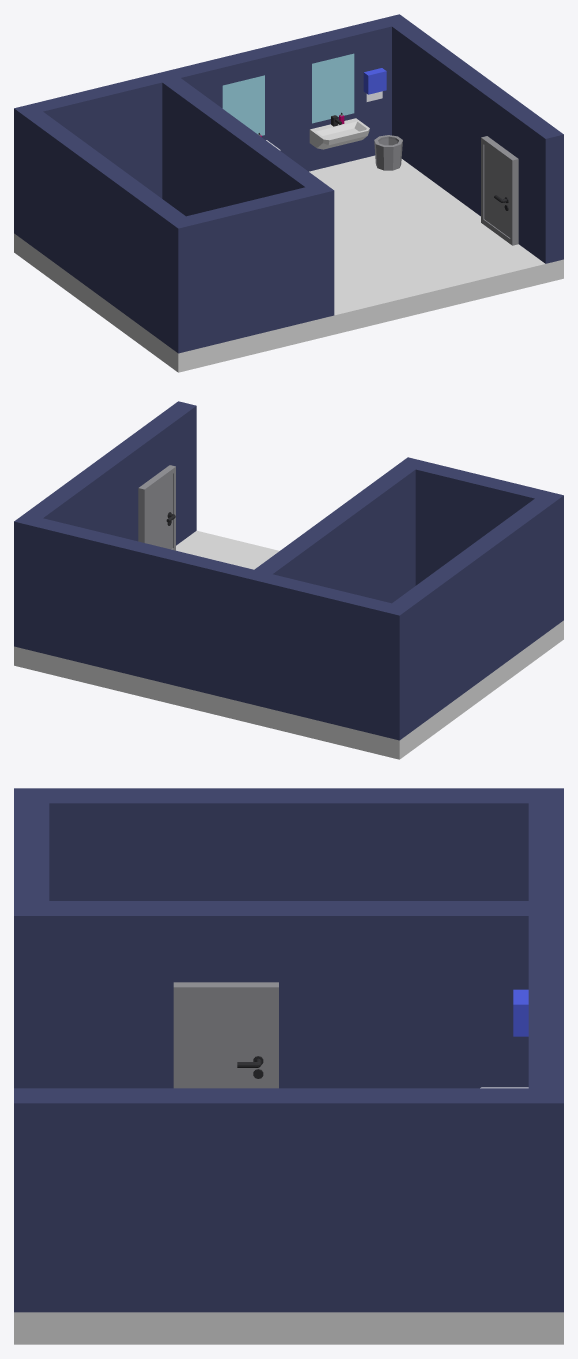
Rendered from Scene_8_ToiletRoom.fbx.
3 renders of one model, top to bottom at view 1: azimuth 30°, elevation 25°; view 2: azimuth 150°, elevation 25°; view 3: azimuth 270°, elevation 25°, orthographic. The views are drawn at different scales.
Parts seen in each view (by area): view 1: WallToiletRoom.001, BodenToiletRoom.001, DoorToiletEntry/Exit, SpiegelRechts, SpiegelLinks, WaschbeckenRechts, PapierkorbRechts, PapierTuchRechts; view 2: WallToiletRoom.001, BodenToiletRoom.001, DoorToiletEntry/Exit; view 3: WallToiletRoom.001, BodenToiletRoom.001, DoorToilet, PapierTuchLinks.
Part boxes in pixels (bbox=[...]): WallToiletRoom.001: bbox=[14, 14, 563, 353]; BodenToiletRoom.001: bbox=[14, 155, 563, 372]; DoorToiletEntry/Exit: bbox=[481, 136, 518, 245]; SpiegelRechts: bbox=[312, 53, 354, 123]; SpiegelLinks: bbox=[222, 75, 264, 135]; WaschbeckenRechts: bbox=[309, 118, 369, 149]; PapierkorbRechts: bbox=[374, 135, 402, 170]; PapierTuchRechts: bbox=[363, 68, 386, 101]; WallToiletRoom.001: bbox=[14, 401, 563, 740]; BodenToiletRoom.001: bbox=[14, 530, 563, 759]; DoorToiletEntry/Exit: bbox=[138, 465, 175, 550]; WallToiletRoom.001: bbox=[14, 788, 563, 1312]; BodenToiletRoom.001: bbox=[14, 1312, 563, 1344]; DoorToilet: bbox=[173, 982, 278, 1088]; PapierTuchLinks: bbox=[513, 989, 528, 1036].
Size of the model in its own units: 2100 by 750 by 1550.
Materials: 1 (1 with a texture image).
